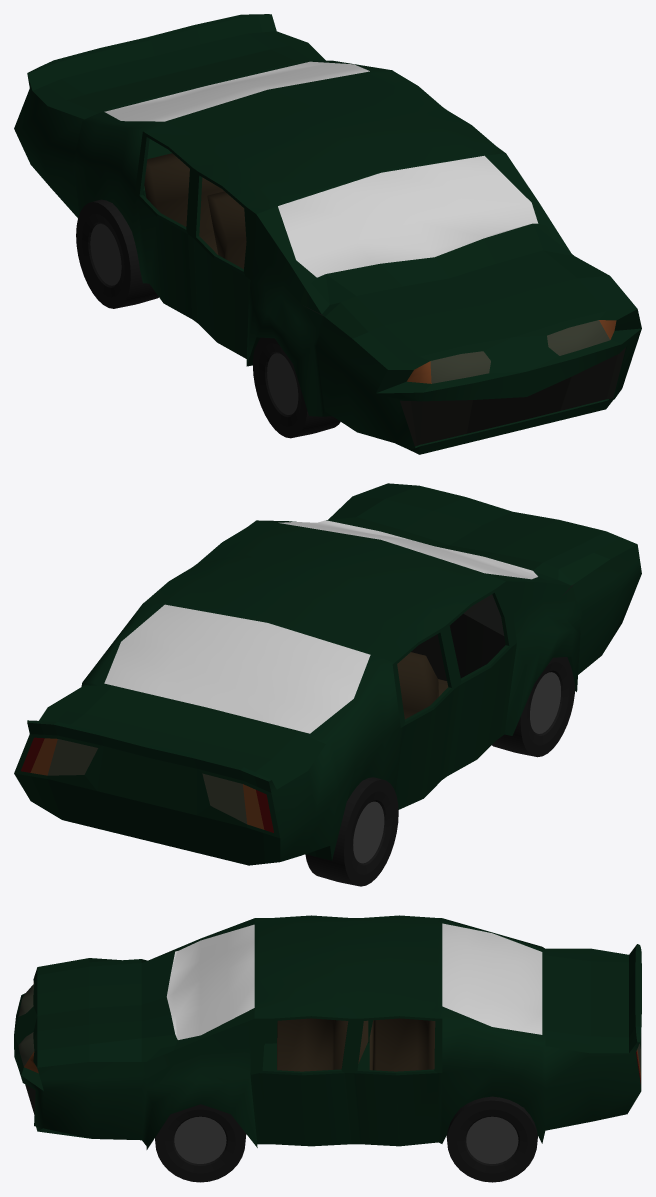
File: car.obj
3 renders of one model, top to bottom at view 1: azimuth 30°, elevation 25°; view 2: azimuth 150°, elevation 25°; view 3: azimuth 270°, elevation 25°, orthographic. The views are drawn at different scales.
Visible parts, largest first — view 1: Car_car_base, Car_car_windshield, Car_car_wheel_base, Car_car_radiator_vent, Car_car_seats, Car_car_wheel_rim, Car_car_headlight_inner; view 2: Car_car_base, Car_car_windshield, Car_car_wheel_base, Car_car_dashboard, Car_car_wheel_rim, Car_car_headlight_inner, Car_car_seats, Car_car_headlight_outer, Car_car_rearlight_outer; view 3: Car_car_base, Car_car_windshield, Car_car_wheel_base, Car_car_seats, Car_car_wheel_rim, Car_car_headlight_inner.
Part boxes in pixels (left/top/right/bottom): Car_car_base: left=14, top=14, right=641, bottom=454; Car_car_windshield: left=104, top=61, right=538, bottom=277; Car_car_wheel_base: left=76, top=199, right=340, bottom=438; Car_car_radiator_vent: left=400, top=347, right=625, bottom=446; Car_car_seats: left=144, top=153, right=246, bottom=268; Car_car_wheel_rim: left=90, top=224, right=298, bottom=414; Car_car_headlight_inner: left=430, top=320, right=609, bottom=383; Car_car_base: left=14, top=483, right=641, bottom=865; Car_car_windshield: left=104, top=520, right=537, bottom=733; Car_car_wheel_base: left=305, top=657, right=575, bottom=886; Car_car_dashboard: left=411, top=584, right=573, bottom=680; Car_car_wheel_rim: left=353, top=672, right=560, bottom=863; Car_car_headlight_inner: left=47, top=739, right=246, bottom=823; Car_car_seats: left=397, top=652, right=448, bottom=719; Car_car_headlight_outer: left=30, top=738, right=264, bottom=829; Car_car_rearlight_outer: left=21, top=737, right=273, bottom=832; Car_car_base: left=14, top=915, right=641, bottom=1149; Car_car_windshield: left=166, top=923, right=542, bottom=1039; Car_car_wheel_base: left=155, top=1096, right=537, bottom=1182; Car_car_seats: left=277, top=1018, right=435, bottom=1071; Car_car_wheel_rim: left=174, top=1116, right=518, bottom=1163; Car_car_headlight_inner: left=18, top=983, right=640, bottom=1071.
Size of the model in its own units: 3.01 by 2.12 by 6.88.
